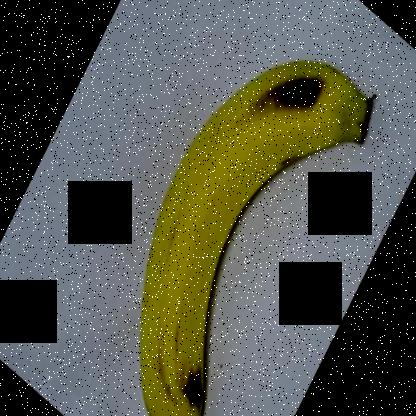freshripe: (124, 48, 385, 415)
